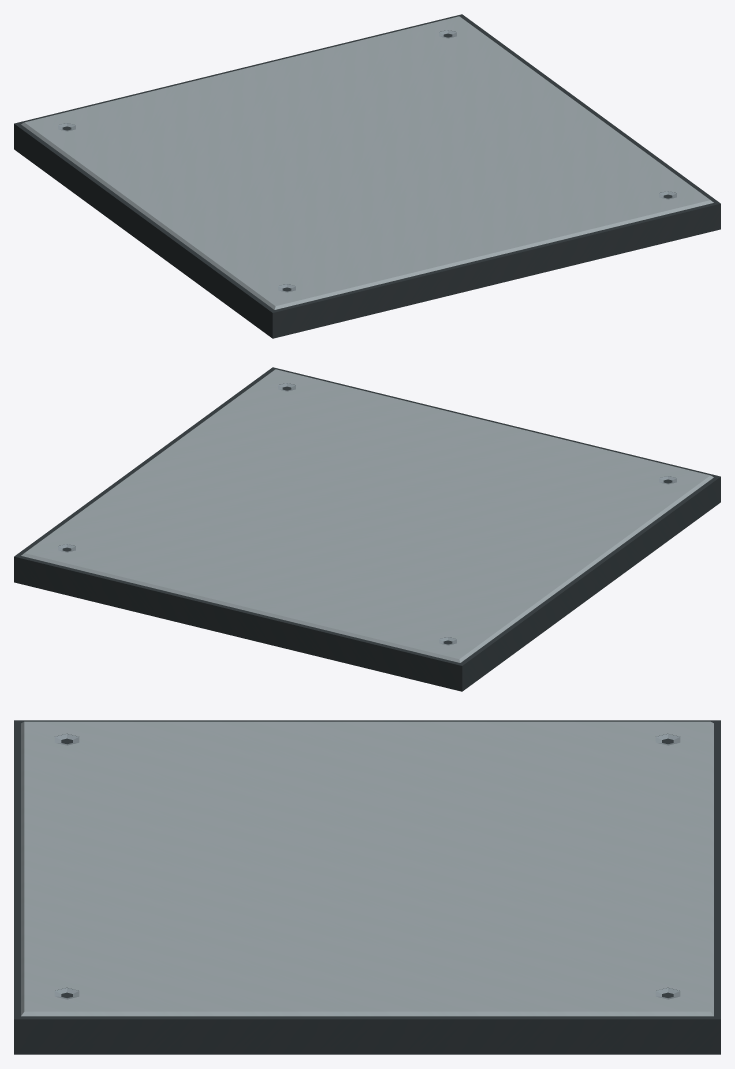
The model's file is 04_floor_panel.gltf.
3 views of the same model, one above another, from view 1: azimuth 30°, elevation 25°; view 2: azimuth 150°, elevation 25°; view 3: azimuth 270°, elevation 25° (orthographic). The views are drawn at different scales.
Parts seen in each view (by area): view 1: 04_Cryo_Quiet_Matte_Floor, 04_Cryo_Anodized_Frame; view 2: 04_Cryo_Quiet_Matte_Floor, 04_Cryo_Anodized_Frame; view 3: 04_Cryo_Quiet_Matte_Floor, 04_Cryo_Anodized_Frame, 04_Cryo_Brushed_Steel.
Part boxes in pixels (x1,y1,x2,y2): 04_Cryo_Quiet_Matte_Floor: (21,16,713,309); 04_Cryo_Anodized_Frame: (14,14,720,338); 04_Cryo_Quiet_Matte_Floor: (21,369,713,662); 04_Cryo_Anodized_Frame: (14,367,720,691); 04_Cryo_Quiet_Matte_Floor: (21,721,713,1016); 04_Cryo_Anodized_Frame: (14,720,720,1054); 04_Cryo_Brushed_Steel: (54,734,680,999).
Bounding box in the file's own units: 2 × 0.12 × 2.
Materials: 3 (3 with a texture image).
